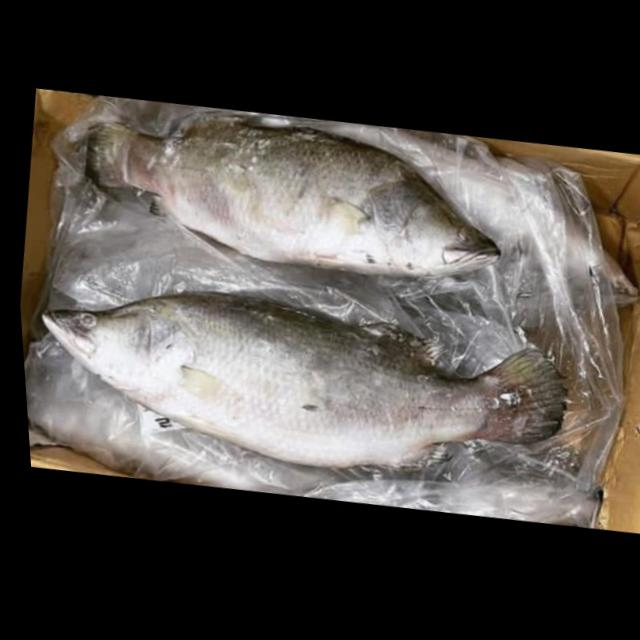Seabass: (27, 256, 579, 511), (69, 85, 514, 301)
